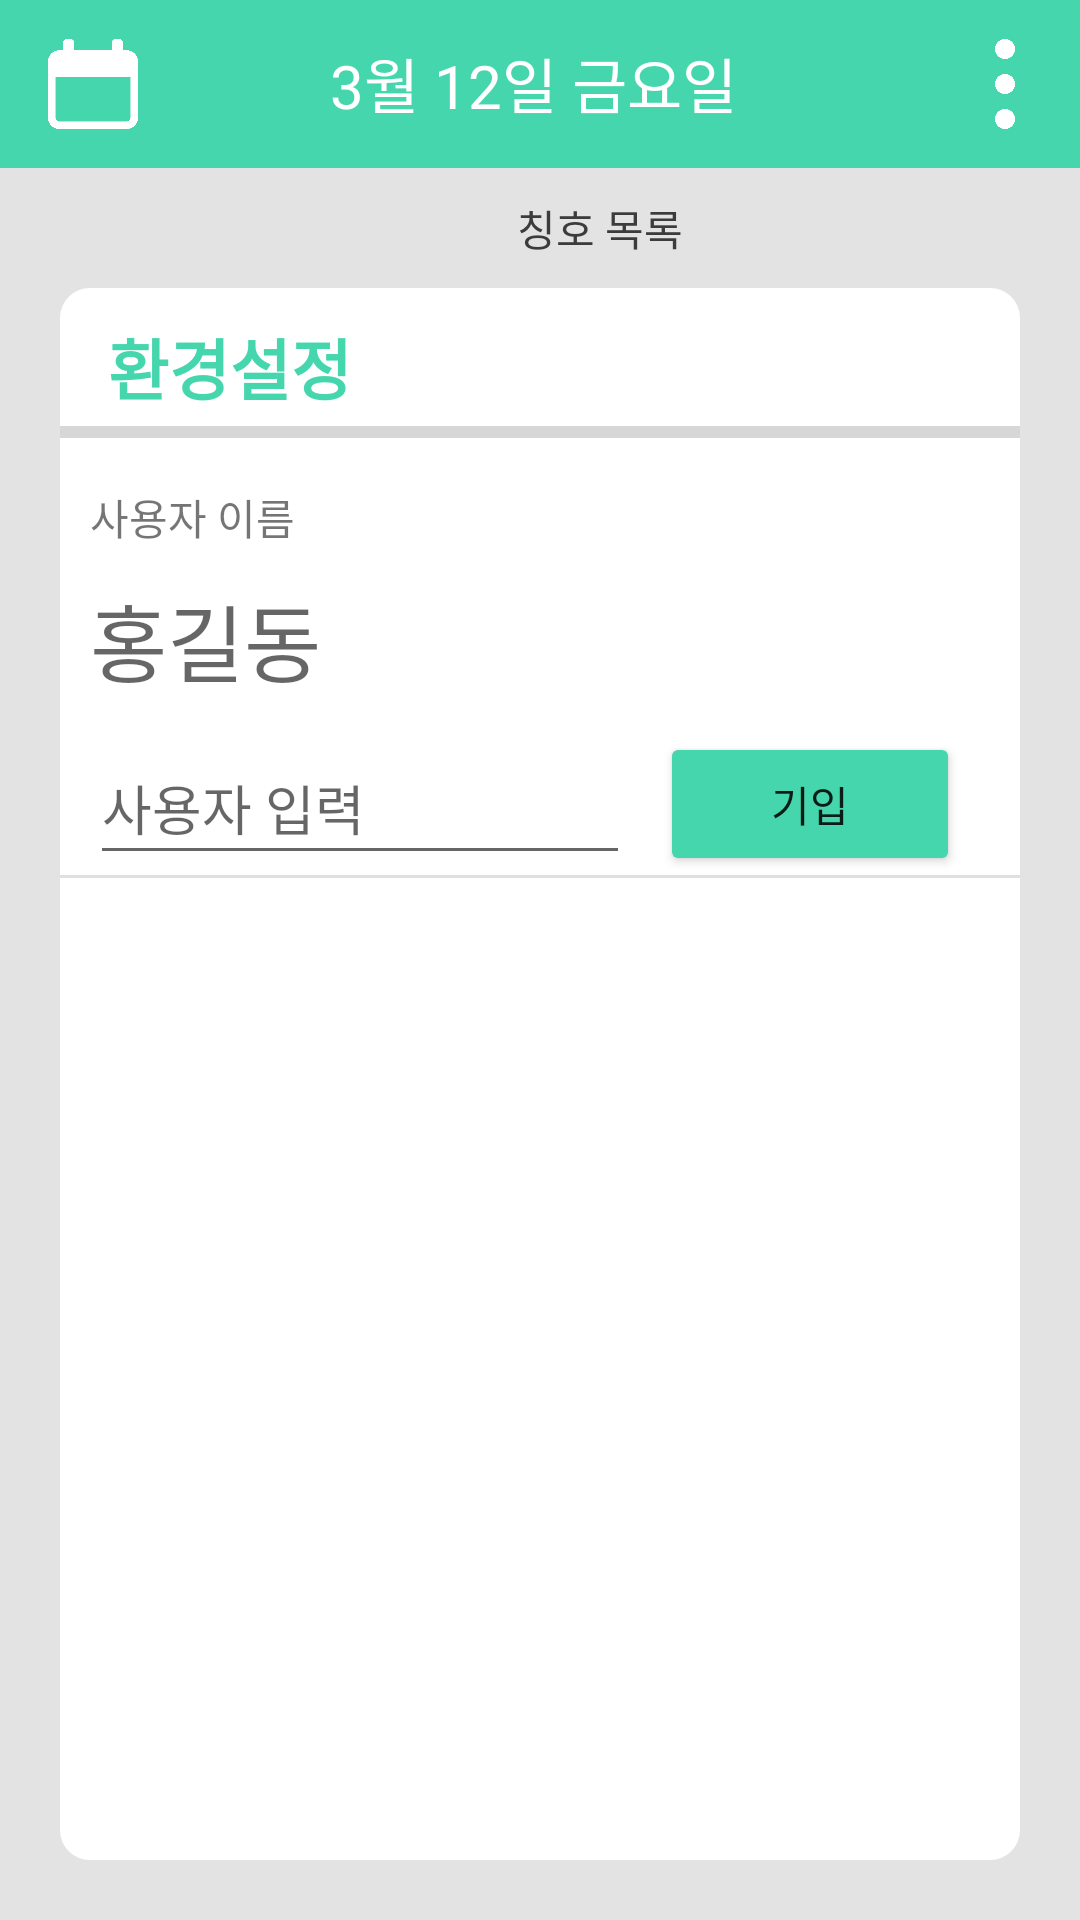

Icons on this 1080 × 1920 Android screen, each with its box as box=[x1, y1, x2, y2]:
calendar: box=[48, 39, 138, 129]
more: box=[995, 39, 1015, 129]
